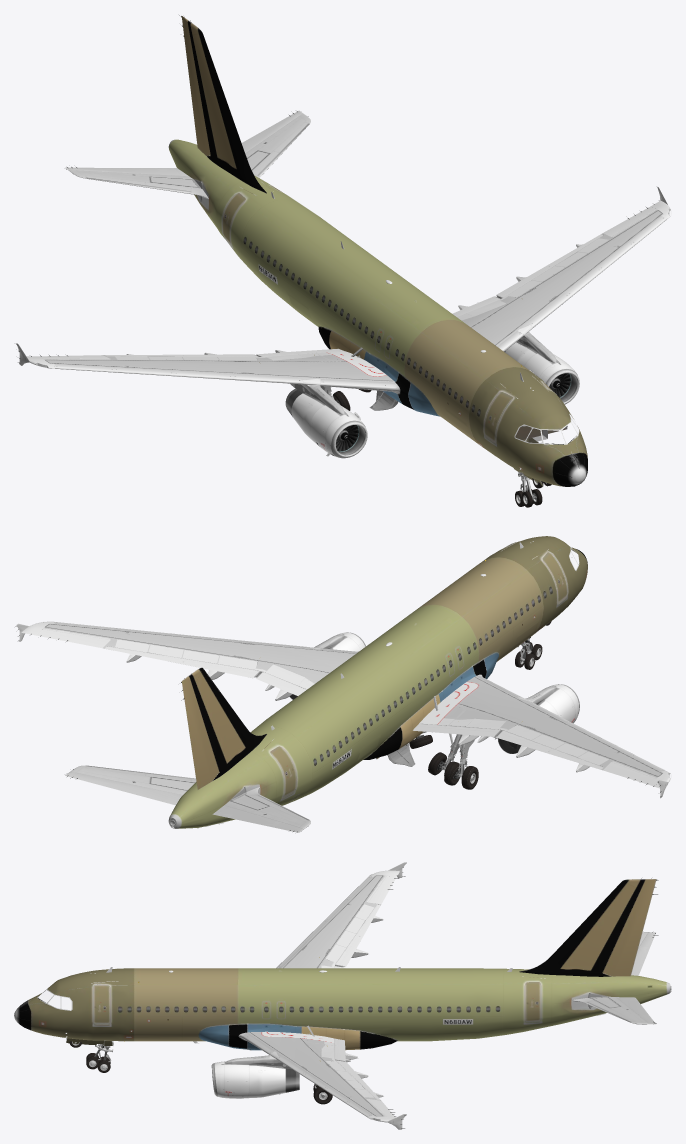
3 views of the same model, one above another, from view 1: azimuth 30°, elevation 25°; view 2: azimuth 150°, elevation 25°; view 3: azimuth 270°, elevation 25° (orthographic). The views are drawn at different scales.
Parts seen in each view (by area): view 1: Exterior, Pose_gear_2; view 2: Exterior, Pose_gear_3, Pose_gear_2, Pose_gear_1; view 3: Exterior, Pose_gear_3.
Boxes of the visible parts, <box> form: Exterior: <box>16,15,671,486</box>; Pose_gear_2: <box>324,386,542,507</box>; Exterior: <box>15,536,671,832</box>; Pose_gear_3: <box>419,639,535,789</box>; Pose_gear_2: <box>376,637,542,784</box>; Pose_gear_1: <box>376,621,551,766</box>; Exterior: <box>14,862,671,1129</box>; Pose_gear_3: <box>97,1041,332,1104</box>.
Size of the model in its own units: 34.1 by 12.26 by 37.61.
Materials: 20 (19 with a texture image).
